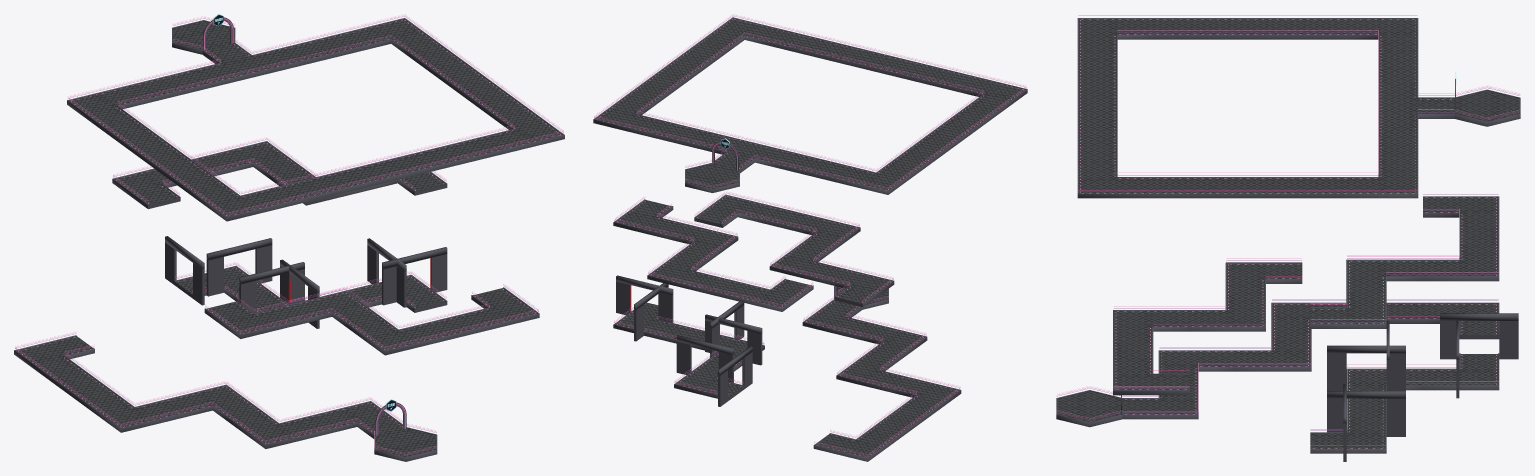
File: map8.glb
3 views of the same model, side by side, from view 1: azimuth 30°, elevation 25°; view 2: azimuth 150°, elevation 25°; view 3: azimuth 270°, elevation 25° (orthographic). The views are drawn at different scales.
Parts seen in each view (by area): view 1: Platform1_3, Platform1_4.008, Platform1_4.026, Platform1_4.010, Platform1_4, Platform1_4.002, Platform1_4.027, Platform1_4.009, Platform1_4.001, Platform1_4.007, Platform1_4.011, Platform1_4.025 (+36 smaller); view 2: Platform1_3, Platform1_4.010, Platform1_4.009, Platform1_4.025, Platform1_4.003, Platform1_4.012, Platform1_4.001, Platform1_4.011, Platform1_4.014, Platform1_4.028, Platform1_4.007, Platform1_4.002 (+38 smaller); view 3: Platform1_3, Platform1_4.011, Platform1_4.013, Platform1_4.009, Platform1_4.028, Platform1_4.027, Platform1_4.001, Platform1_4.007, Platform1_4.014, Platform1_4.004, Platform1_4.010, Platform1_4.006 (+45 smaller).
Part boxes in pixels (x1=…): Platform1_3: x1=190, y1=40, x2=300, y2=87; Platform1_4.008: x1=349, y1=315, x2=447, y2=355; Platform1_4.026: x1=191, y1=180, x2=288, y2=221; Platform1_4.010: x1=204, y1=297, x2=302, y2=338; Platform1_4: x1=229, y1=408, x2=327, y2=448; Platform1_4.002: x1=85, y1=391, x2=183, y2=432; Platform1_4.027: x1=484, y1=105, x2=564, y2=153; Platform1_4.009: x1=459, y1=284, x2=539, y2=332; Platform1_4.001: x1=165, y1=381, x2=261, y2=422; Platform1_4.007: x1=284, y1=287, x2=380, y2=328; Platform1_4.011: x1=205, y1=137, x2=302, y2=178; Platform1_4.025: x1=67, y1=81, x2=147, y2=130; Platform1_3: x1=700, y1=131, x2=796, y2=173; Platform1_4.010: x1=823, y1=264, x2=894, y2=307; Platform1_4.009: x1=694, y1=192, x2=779, y2=227; Platform1_4.025: x1=834, y1=158, x2=919, y2=194; Platform1_4.003: x1=813, y1=425, x2=899, y2=461; Platform1_4.012: x1=728, y1=276, x2=813, y2=311; Platform1_4.001: x1=836, y1=350, x2=906, y2=392; Platform1_4.011: x1=647, y1=250, x2=717, y2=292; Platform1_4.014: x1=613, y1=197, x2=683, y2=238; Platform1_4.028: x1=593, y1=93, x2=663, y2=135; Platform1_4.007: x1=769, y1=241, x2=839, y2=282; Platform1_4.002: x1=890, y1=373, x2=961, y2=416; Platform1_3: x1=1378, y1=78, x2=1454, y2=130; Platform1_4.011: x1=1423, y1=240, x2=1499, y2=281; Platform1_4.013: x1=1346, y1=255, x2=1422, y2=292; Platform1_4.009: x1=1113, y1=358, x2=1189, y2=395; Platform1_4.028: x1=1342, y1=157, x2=1418, y2=198; Platform1_4.027: x1=1077, y1=161, x2=1153, y2=198; Platform1_4.001: x1=1235, y1=334, x2=1311, y2=371; Platform1_4.007: x1=1189, y1=294, x2=1265, y2=331; Platform1_4.014: x1=1310, y1=292, x2=1386, y2=328; Platform1_4.004: x1=1423, y1=353, x2=1499, y2=390; Platform1_4.010: x1=1225, y1=258, x2=1302, y2=295; Platform1_4.006: x1=1310, y1=413, x2=1386, y2=453.
Size of what is drawn, in the model's own units: 70.75 by 58.29 by 74.18.
Materials: 9 (9 with a texture image).
